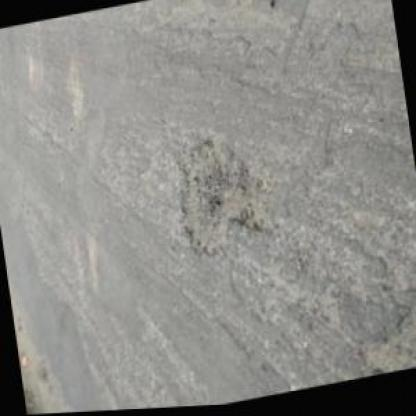pothole: (167, 129, 280, 265)
